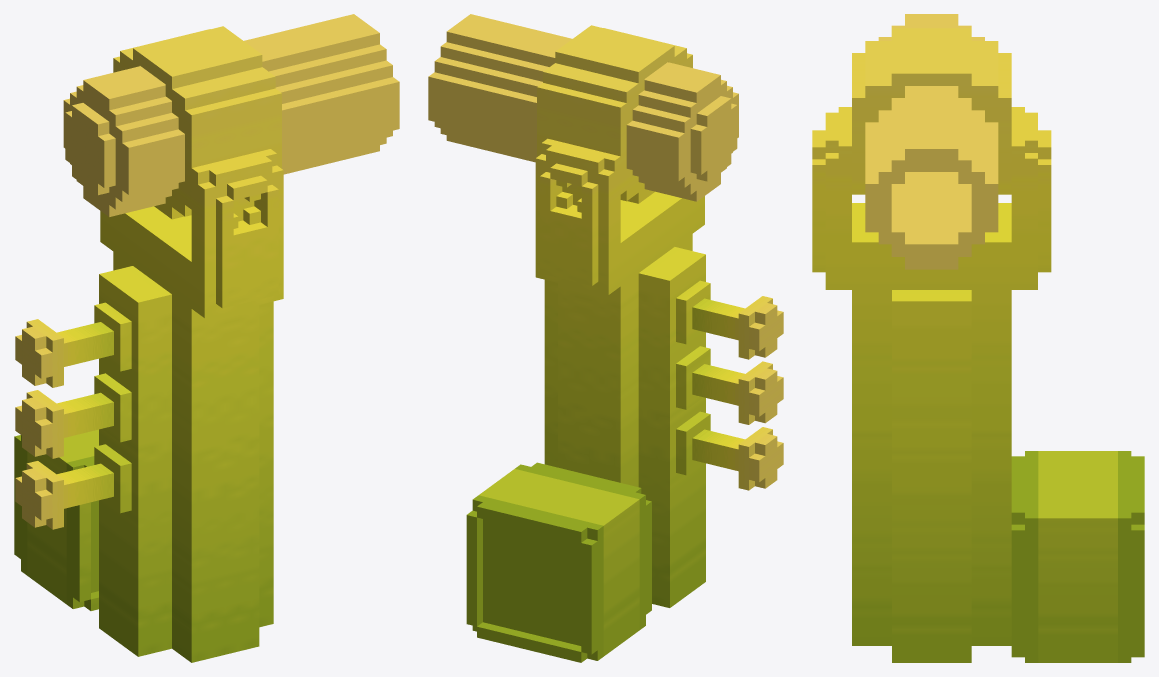
Rendered from turret.glb.
3 views of the same model, side by side, from view 1: azimuth 30°, elevation 25°; view 2: azimuth 150°, elevation 25°; view 3: azimuth 270°, elevation 25° (orthographic). The views are drawn at different scales.
Visible parts, largest first — view 1: Cube.017, Cube.013, Cube.005, Cube.006, Cube.001, Cube.002, Cube.003; view 2: Cube.017, Cube.013, Cube.005, Cube.006, Cube.001, Cube.003, Cube.002; view 3: Cube.017, Cube.013, Cube.005, Cube.006.
Boxes of the visible parts, left/top/right/bottom form: Cube.017: left=14, top=251, right=273, bottom=662; Cube.013: left=63, top=14, right=399, bottom=217; Cube.005: left=100, top=149, right=283, bottom=318; Cube.006: left=113, top=26, right=281, bottom=219; Cube.001: left=15, top=461, right=113, bottom=529; Cube.002: left=15, top=390, right=113, bottom=458; Cube.003: left=15, top=319, right=113, bottom=387; Cube.017: left=466, top=234, right=710, bottom=662; Cube.013: left=428, top=14, right=738, bottom=201; Cube.005: left=535, top=138, right=704, bottom=294; Cube.006: left=537, top=25, right=692, bottom=203; Cube.001: left=692, top=427, right=783, bottom=490; Cube.003: left=692, top=296, right=783, bottom=359; Cube.002: left=692, top=361, right=783, bottom=424; Cube.017: left=852, top=290, right=1144, bottom=662; Cube.013: left=865, top=14, right=998, bottom=269; Cube.005: left=812, top=107, right=1051, bottom=289; Cube.006: left=852, top=28, right=1011, bottom=194.
Size of the model in its own units: 10 by 16.14 by 8.33.
Materials: 1 (1 with a texture image).
